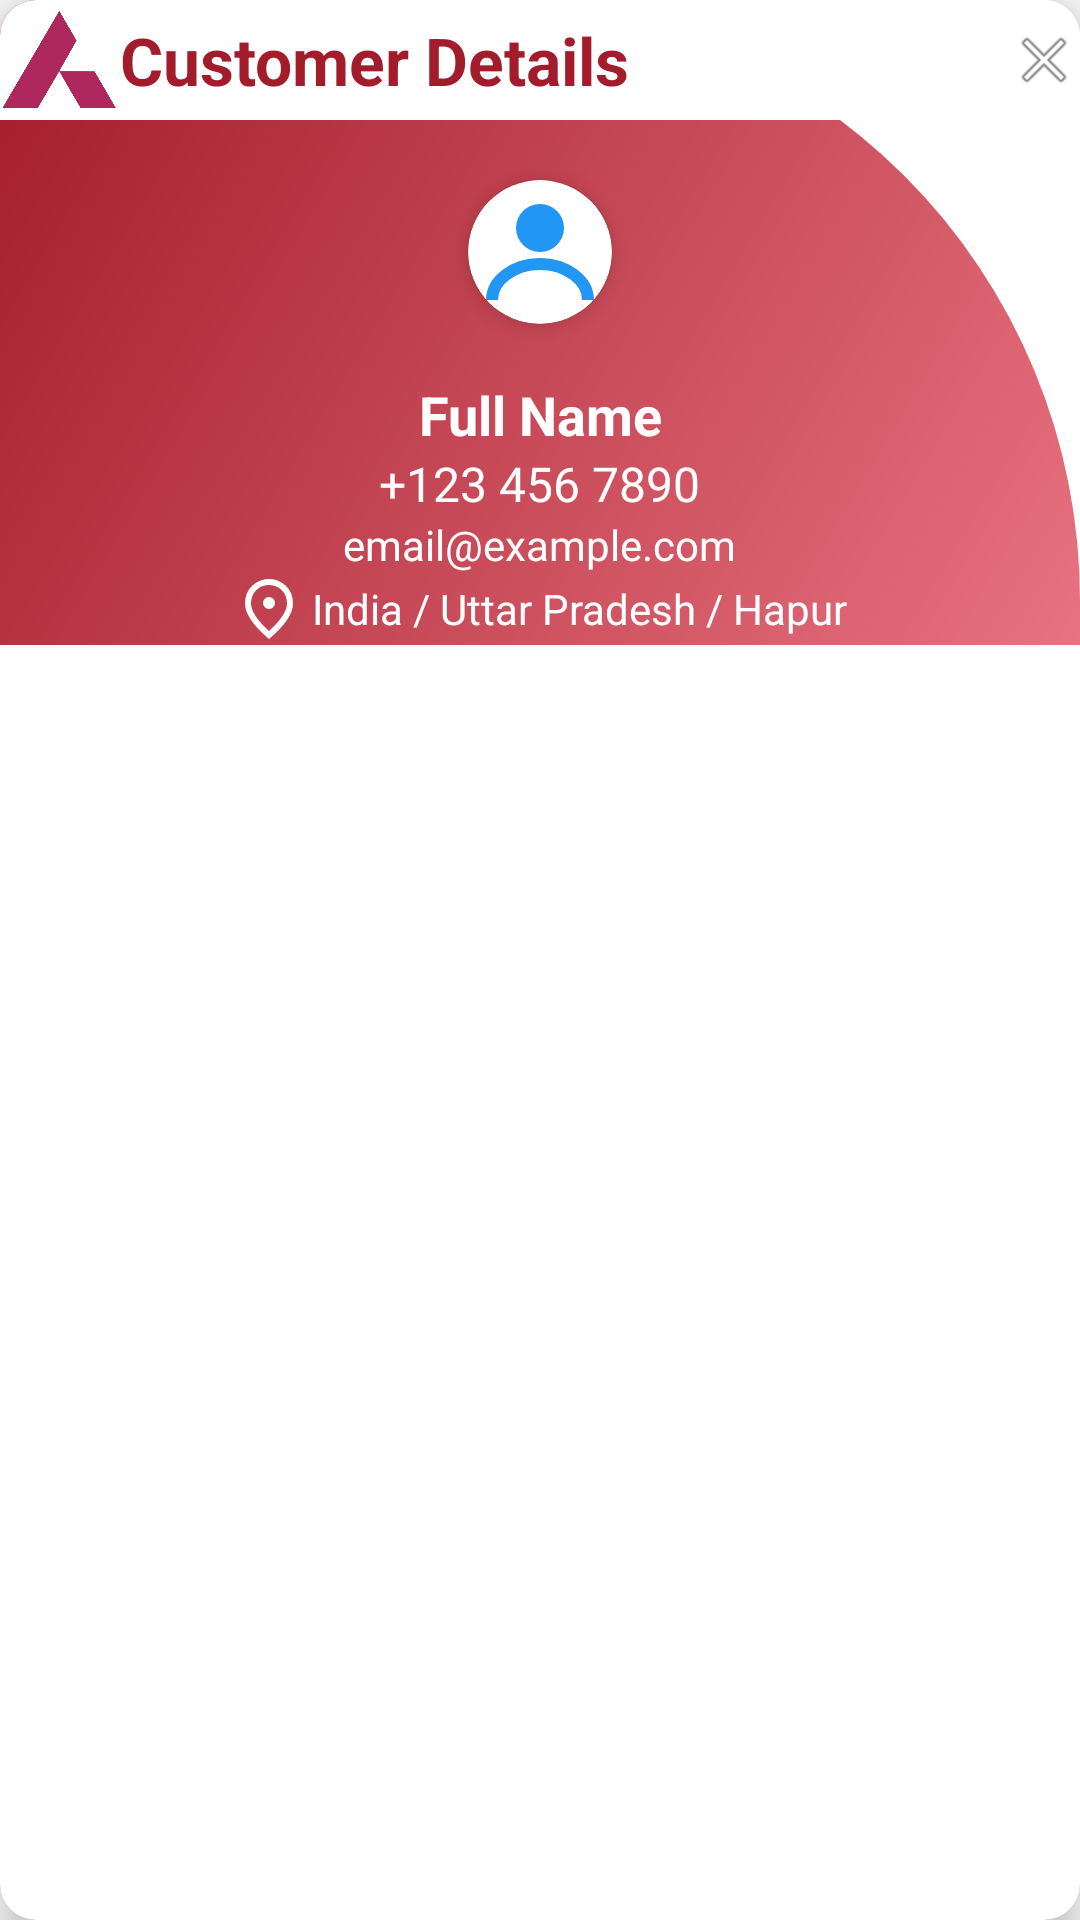

Screen size 1080w x 1920h. Icon name, then its center in pixels as point (x, y):
close clear cancel: point (1044, 60)
user: point (540, 252)
